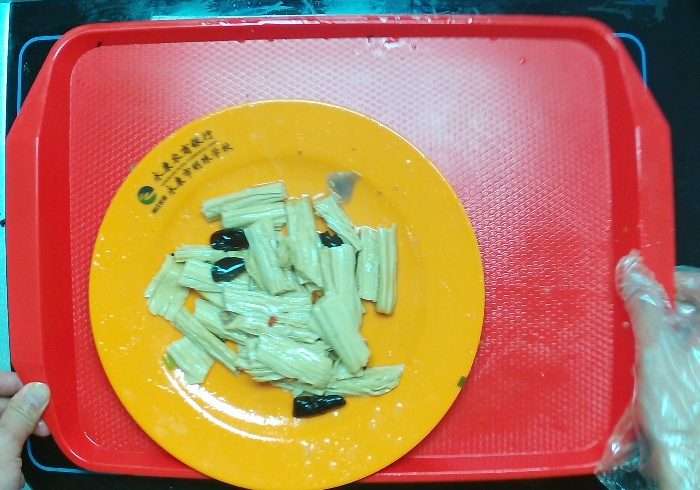YKMZ-Ju_Se_Mian_Pan: (75, 79, 493, 490)
